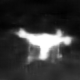plane: (11, 25, 74, 64)
